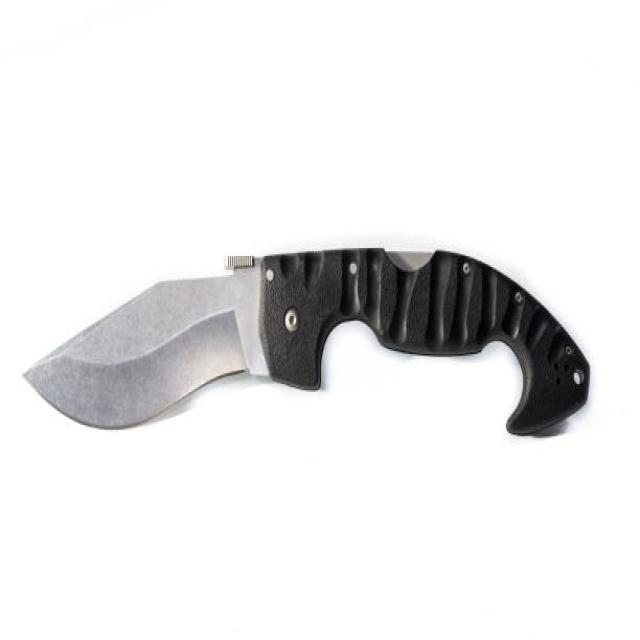knife: (13, 236, 598, 448)
